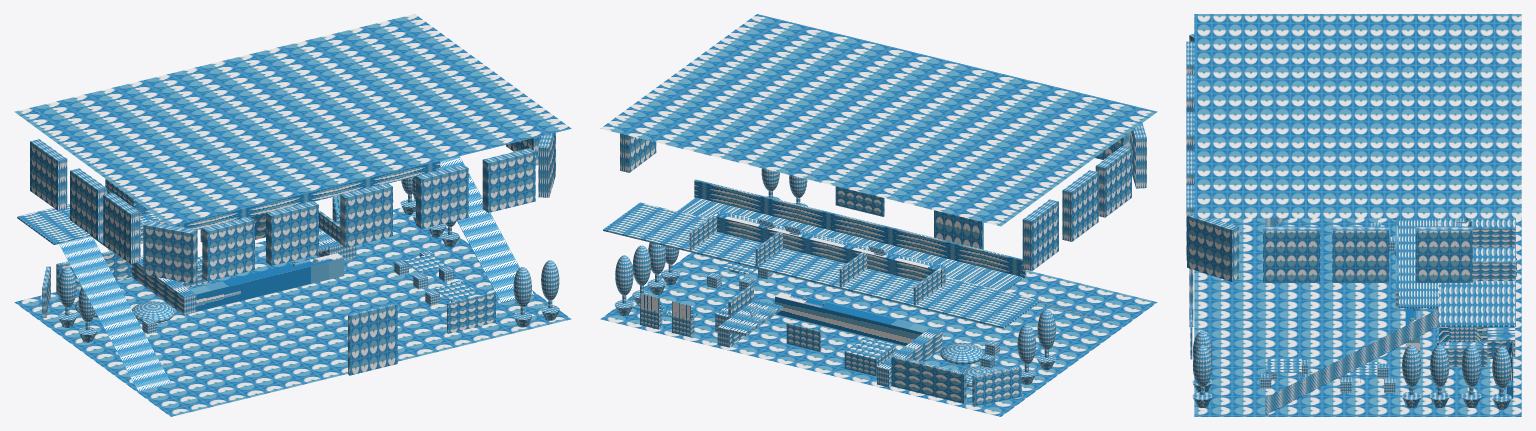
Rendered from Mockup.fbx.
3 renders of one model, left to right at view 1: azimuth 30°, elevation 25°; view 2: azimuth 150°, elevation 25°; view 3: azimuth 270°, elevation 25°, orthographic. The views are drawn at different scales.
Visible parts, largest first — view 1: pasted__pPlane1, pPlane1, pasted__pCube17 (×6), pPlane2, pasted__pasted__pasted__pCube17 (×2), pCube2, pasted__pPlane2, pCube4, pCube17, pCube14, pasted__pasted__pCube17, pasted__pasted__pPlane1 (+6 smaller); view 2: pasted__pPlane1, pPlane1, pasted__pasted__pPlane1, pCube14, pasted__pCube14, pasted__pasted__pasted__pCube17 (×2), pCube2, pasted__pSphere3 (×4), pCube7, pasted__pasted__pCube17, pasted__pasted__pasted__pCube14 (×3), pasted__pCube7 (+13 smaller); view 3: pasted__pPlane1, pPlane1, pasted__pasted__pPlane1, pasted__pasted__pasted__pasted__pCube17 (×2), pasted__pCube17 (×4), pasted__pasted__pasted__pCube17, pasted__pPlane2, pasted__pSphere3 (×4), pasted__pasted__pasted__pCube14 (×2), pasted__pCube6, pCube6, pSphere3 (+6 smaller).
Part boxes in pixels (x1,y1,x2,y2): pasted__pPlane1: (14, 14, 571, 226); pPlane1: (14, 207, 571, 416); pasted__pCube17 (×6): (143, 132, 555, 283); pPlane2: (58, 235, 171, 391); pasted__pasted__pasted__pCube17 (×2): (30, 139, 107, 239); pCube2: (189, 253, 344, 311); pasted__pPlane2: (440, 156, 534, 302); pCube4: (348, 303, 397, 375); pCube17: (340, 183, 392, 247); pCube14: (108, 161, 440, 250); pasted__pasted__pCube17: (103, 192, 140, 264); pasted__pasted__pPlane1: (17, 176, 415, 250); pasted__pPlane1: (600, 14, 1157, 226); pPlane1: (600, 252, 1157, 416); pasted__pasted__pPlane1: (603, 197, 1040, 328); pCube14: (694, 179, 1026, 277); pasted__pCube14: (713, 211, 945, 286); pasted__pasted__pasted__pCube17 (×2): (1022, 170, 1098, 270); pCube2: (775, 291, 929, 345); pasted__pSphere3 (×4): (615, 245, 1055, 364); pCube7: (891, 355, 966, 403); pasted__pasted__pCube17: (1095, 146, 1131, 217); pasted__pasted__pasted__pCube14 (×3): (689, 213, 866, 286); pasted__pCube7: (972, 366, 1021, 406); pasted__pPlane1: (1194, 14, 1521, 218); pPlane1: (1194, 218, 1521, 416); pasted__pasted__pPlane1: (1398, 218, 1515, 326); pasted__pasted__pasted__pasted__pCube17 (×2): (1332, 226, 1472, 282); pasted__pCube17 (×4): (1186, 74, 1239, 281); pasted__pasted__pasted__pCube17: (1263, 226, 1319, 282); pasted__pPlane2: (1265, 309, 1438, 415); pasted__pSphere3 (×4): (1402, 345, 1511, 388); pasted__pasted__pasted__pCube14 (×2): (1472, 227, 1515, 280); pasted__pCube6: (1439, 327, 1487, 341); pCube6: (1439, 342, 1487, 366); pSphere3: (1193, 345, 1211, 386).
Bounding box in the file's own units: 21.89 × 9.69 × 14.73.
Materials: 2 (1 with a texture image).
